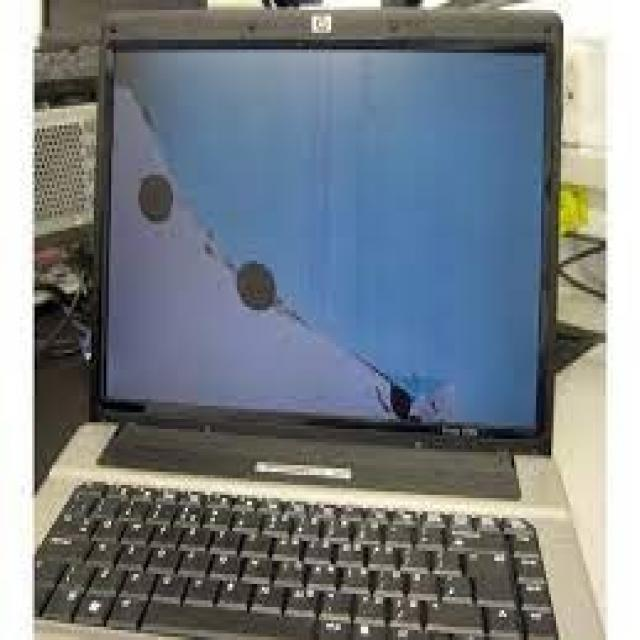Screen cracks: (104, 32, 470, 422)
